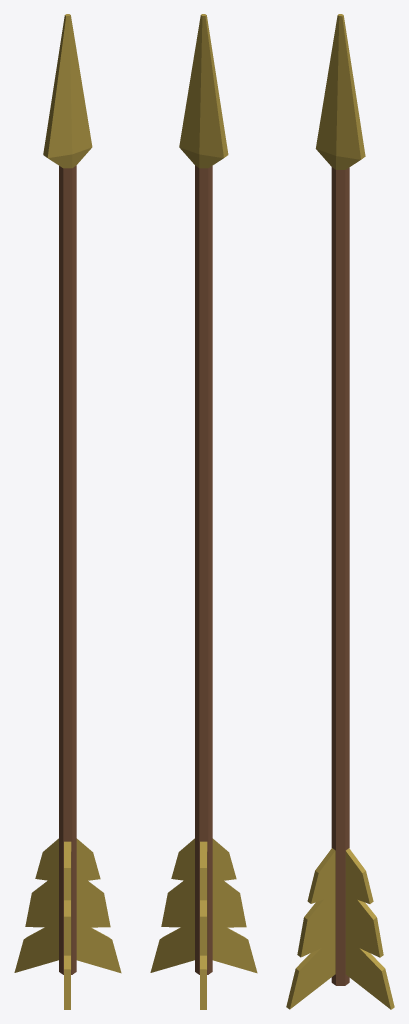
Rendered from SM_Arrow_Golden.fbx.
3 views of the same model, side by side, from view 1: azimuth 30°, elevation 25°; view 2: azimuth 150°, elevation 25°; view 3: azimuth 330°, elevation 25° (orthographic).
Parts seen in each view (by area): view 1: SM_Arrow_Golden; view 2: SM_Arrow_Golden; view 3: SM_Arrow_Golden.
Boxes of the visible parts, <box> form: SM_Arrow_Golden: <box>14,14,121,1009</box>; SM_Arrow_Golden: <box>150,14,257,1009</box>; SM_Arrow_Golden: <box>286,14,394,1009</box>.
Bounding box in the file's own units: 12.69 × 146 × 14.6.
